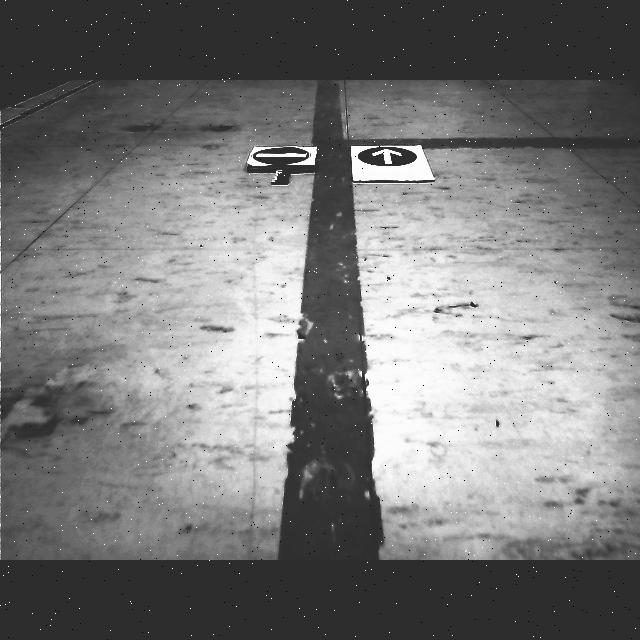GO FORWARD: (359, 147, 416, 165)
NO ENTRY: (253, 147, 309, 165)
